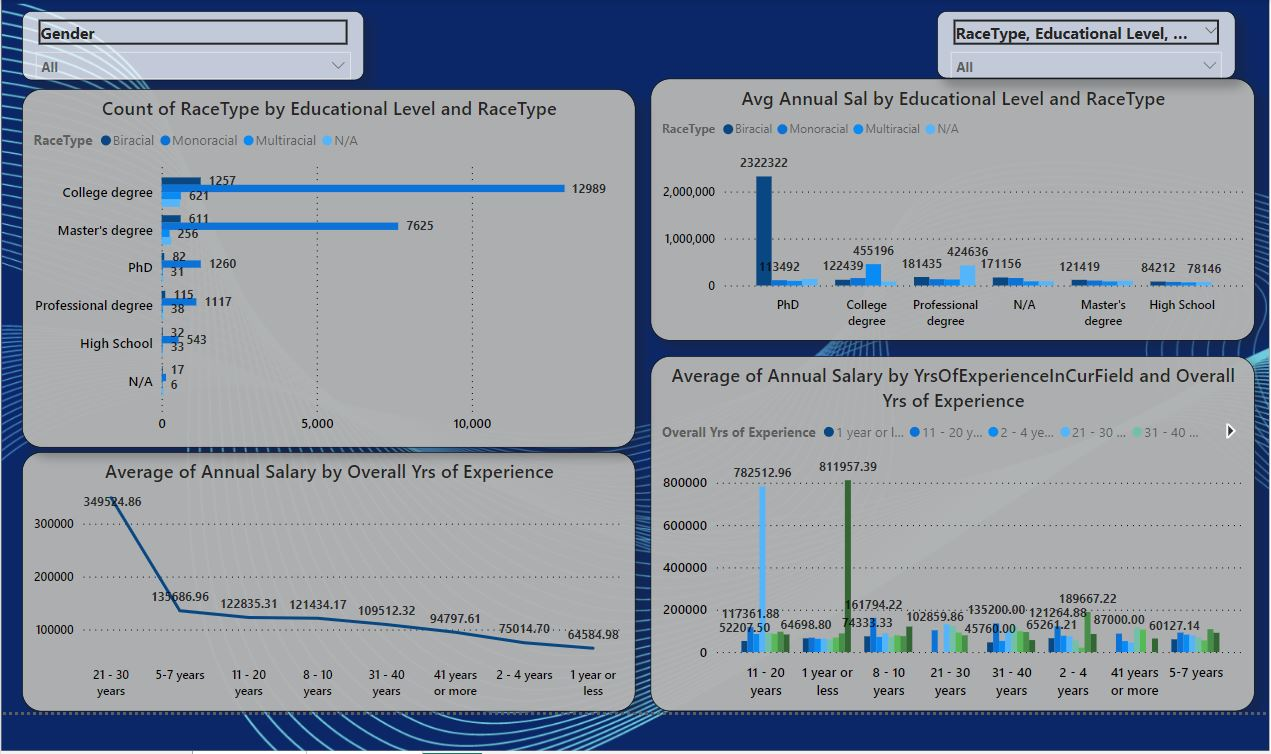

This screenshot's page, from the dashboard's own definition file:
{"tool":"powerbi","page":{"name":"Page 2","canvas":[1280,720],"ordinal":1},"visuals":[{"type":"lineChart","fields":{"Y":["Avg(Table1_28.Annual Salary)"],"Category":["Table1_28.Overall Yrs of Experience"]},"box":[21.2,457.3,619.3,262],"z":0},{"type":"slicer","fields":{"Values":["Table1_28.Gender"]},"box":[21.2,12.1,345.5,69.7],"z":1000},{"type":"clusteredColumnChart","fields":{"Series":["Table1_28.RaceType"],"Category":["Table1_28.Educational Level"],"Y":["Table1_28.Avg Annual Sal"]},"box":[655.7,80.3,610.2,265],"z":2000},{"type":"clusteredColumnChart","fields":{"Category":["Table1_28.YrsOfExperienceInCurField"],"Y":["Avg(Table1_28.Annual Salary)"],"Series":["Table1_28.Overall Yrs of Experience"]},"box":[655.7,360.4,610.2,358.9],"z":3000},{"type":"slicer","fields":{"Values":["Table1_28.RaceType","Table1_28.Educational Level","Table1_28.Gender"]},"box":[944.9,12.1,301.3,68.1],"z":4000},{"type":"clusteredBarChart","fields":{"Category":["Table1_28.Educational Level"],"Series":["Table1_28.RaceType"],"Y":["CountNonNull(Table1_28.RaceType)"]},"box":[21.2,90.9,619.3,361.9],"z":5000}]}

Visuals, with their boxes in screenshot pixels (x1, y1, x2, y2):
lineChart - Avg(Table1_28.Annual Salary) x Table1_28.Overall Yrs of Experience: rect(27, 448, 634, 704)
slicer - Table1_28.Gender: rect(27, 12, 366, 80)
clusteredColumnChart - Table1_28.RaceType x Table1_28.Educational Level: rect(649, 79, 1246, 338)
clusteredColumnChart - Table1_28.YrsOfExperienceInCurField x Avg(Table1_28.Annual Salary): rect(649, 353, 1246, 704)
slicer - Table1_28.RaceType x Table1_28.Educational Level: rect(932, 12, 1227, 79)
clusteredBarChart - Table1_28.Educational Level x Table1_28.RaceType: rect(27, 89, 634, 443)
